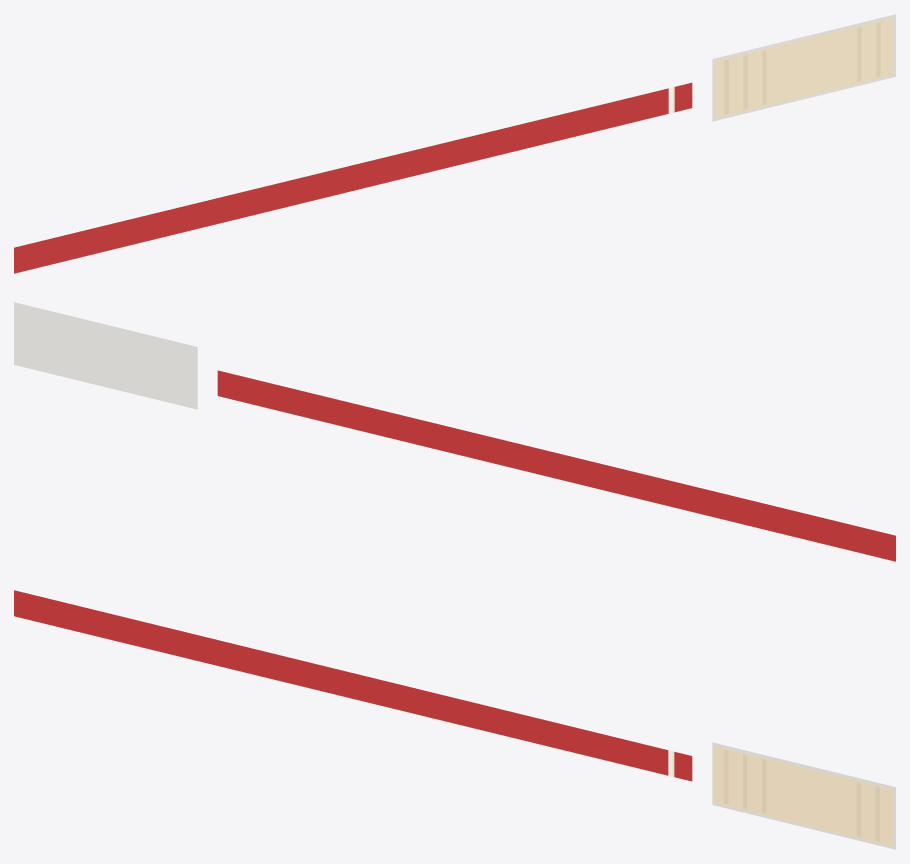
File: longueur.glb
3 renders of one model, top to bottom at view 1: azimuth 30°, elevation 25°; view 2: azimuth 150°, elevation 25°; view 3: azimuth 330°, elevation 25°, orthographic.
Parts seen in each view (by area): view 1: elan, fosse, bordure; view 2: elan, bordure; view 3: elan, fosse, bordure.
Boxes of the visible parts, bbox=[...] form: elan: bbox=[14, 82, 692, 273]; fosse: bbox=[714, 17, 893, 118]; bordure: bbox=[712, 14, 895, 121]; elan: bbox=[217, 370, 895, 561]; bordure: bbox=[14, 302, 197, 409]; elan: bbox=[14, 590, 692, 781]; fosse: bbox=[714, 745, 893, 846]; bordure: bbox=[712, 742, 895, 849].
Size of the model in its own units: 44.2 by 3 by 0.0234.
